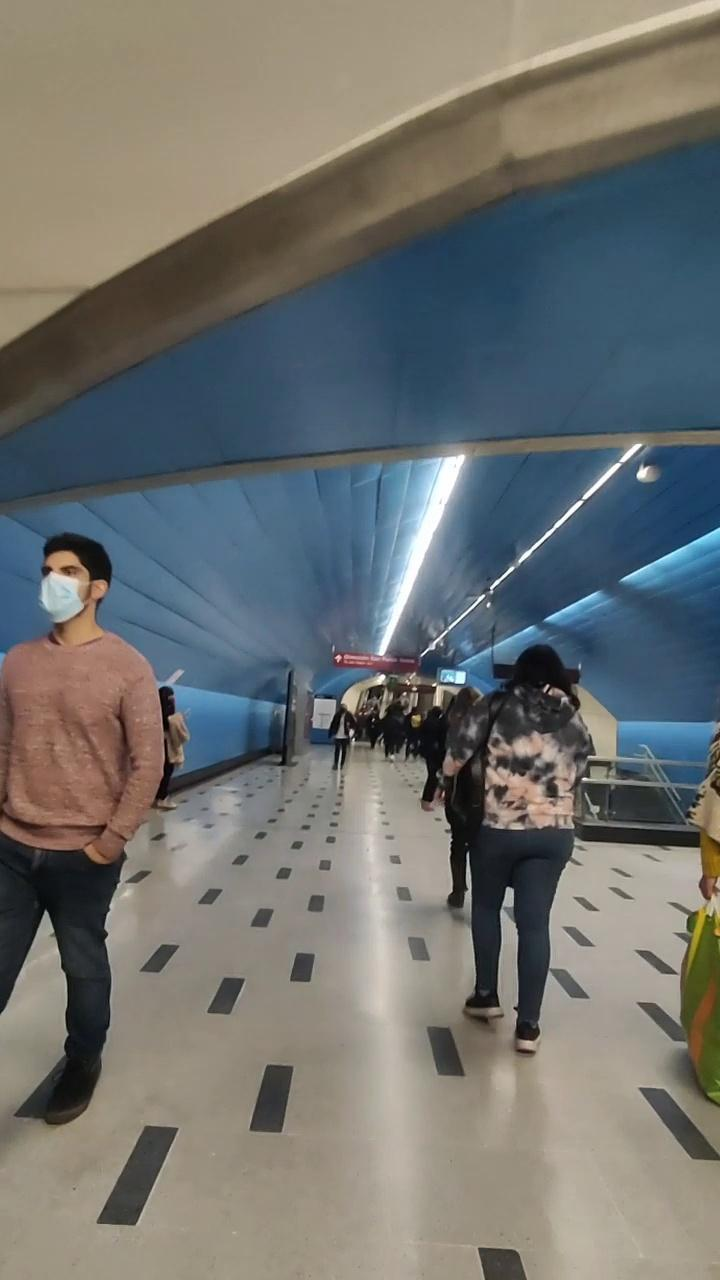up arrow: (332, 652, 344, 666)
